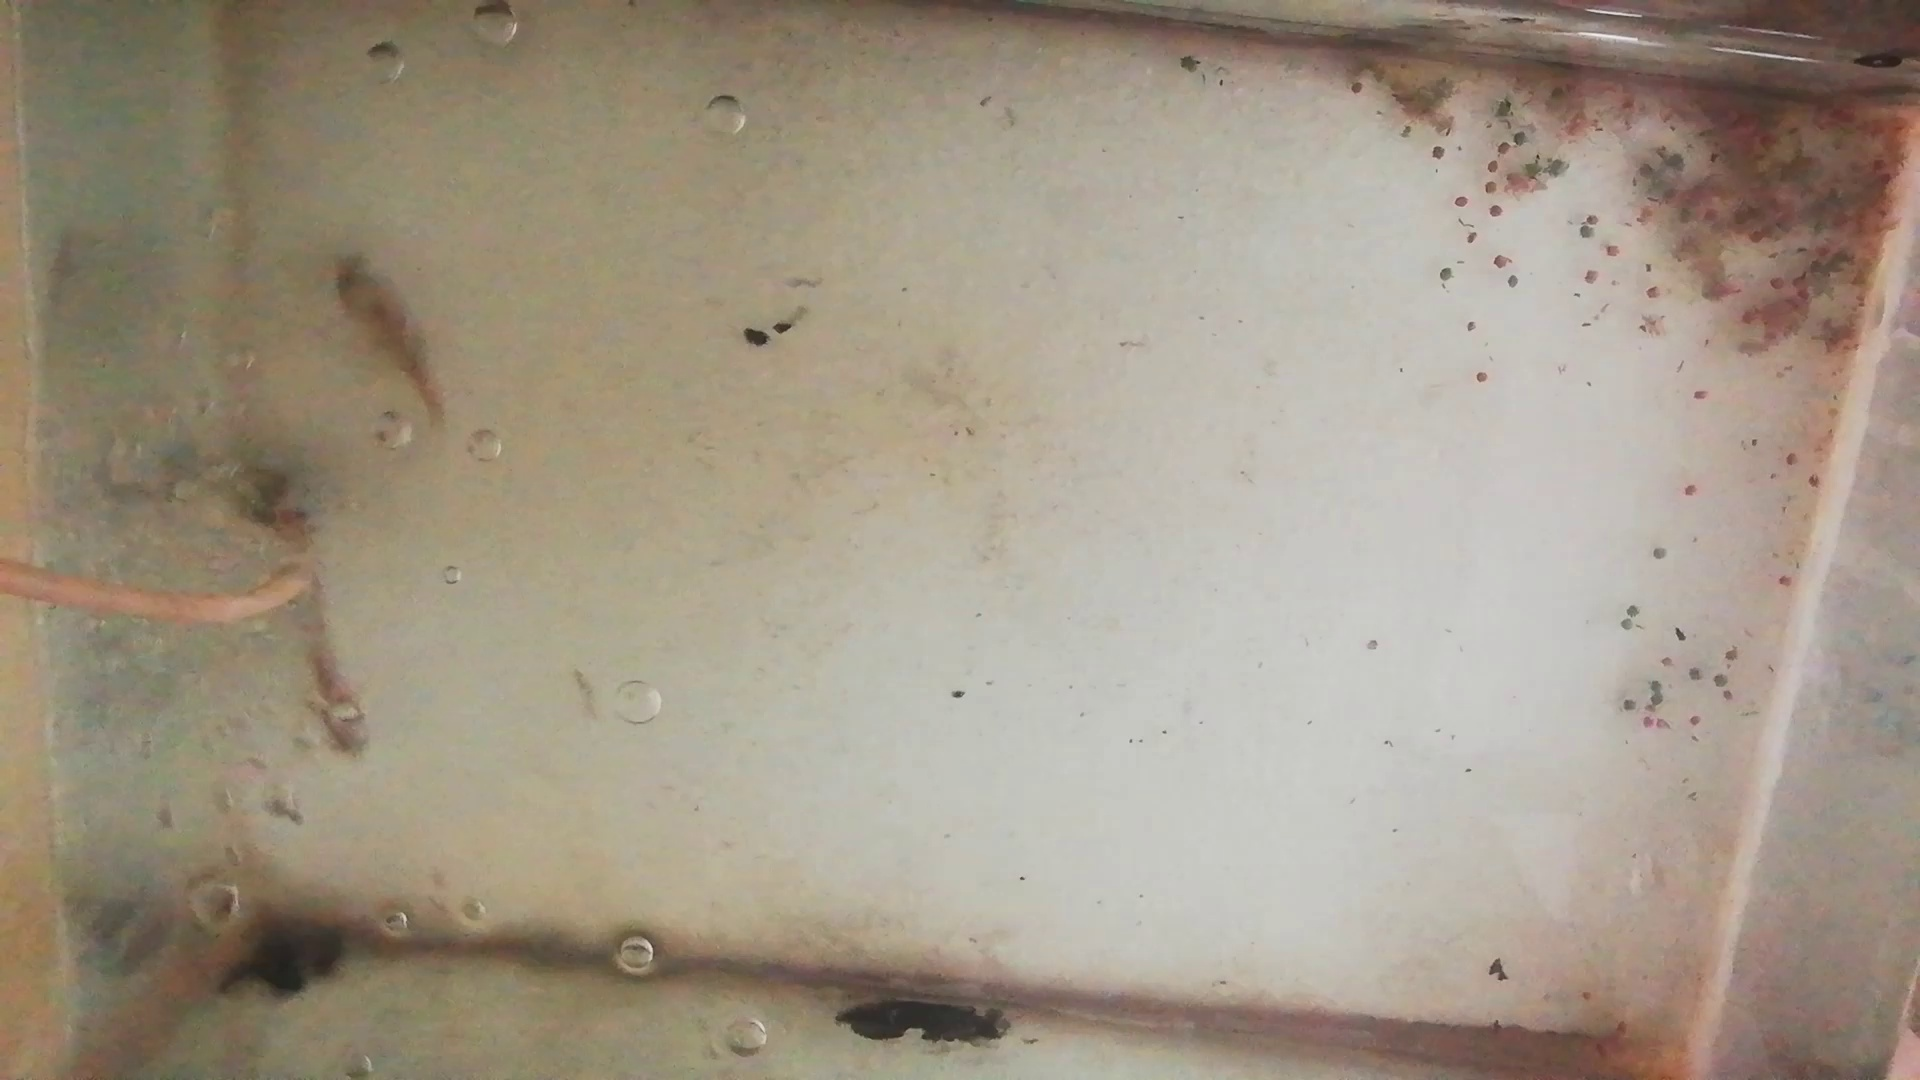fish: (331, 256, 448, 439), (298, 597, 371, 762)
